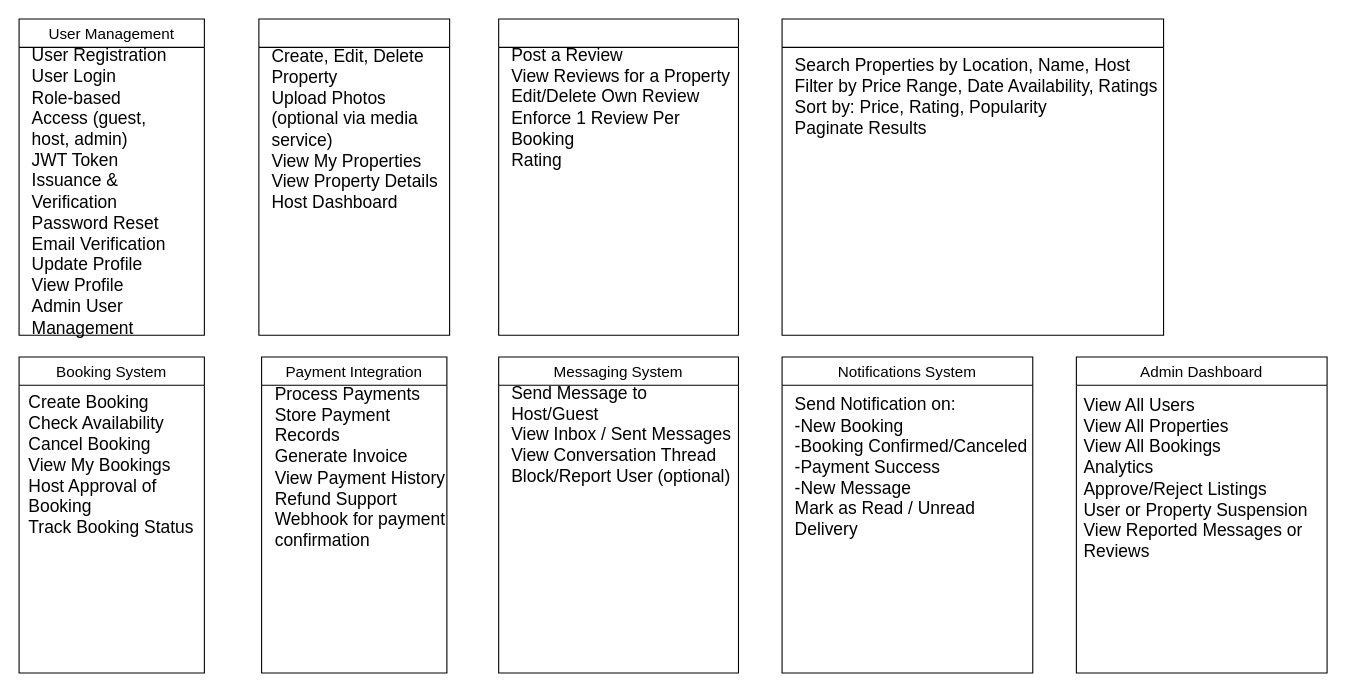
Some shapes in this 1346 by 692 pixel diagram are drawn without their labels. Each missing label, with the box of its shape:
Property Management: (258, 18, 450, 335)
Review System: (498, 18, 738, 335)
Search & Filtering: (781, 18, 1164, 335)
